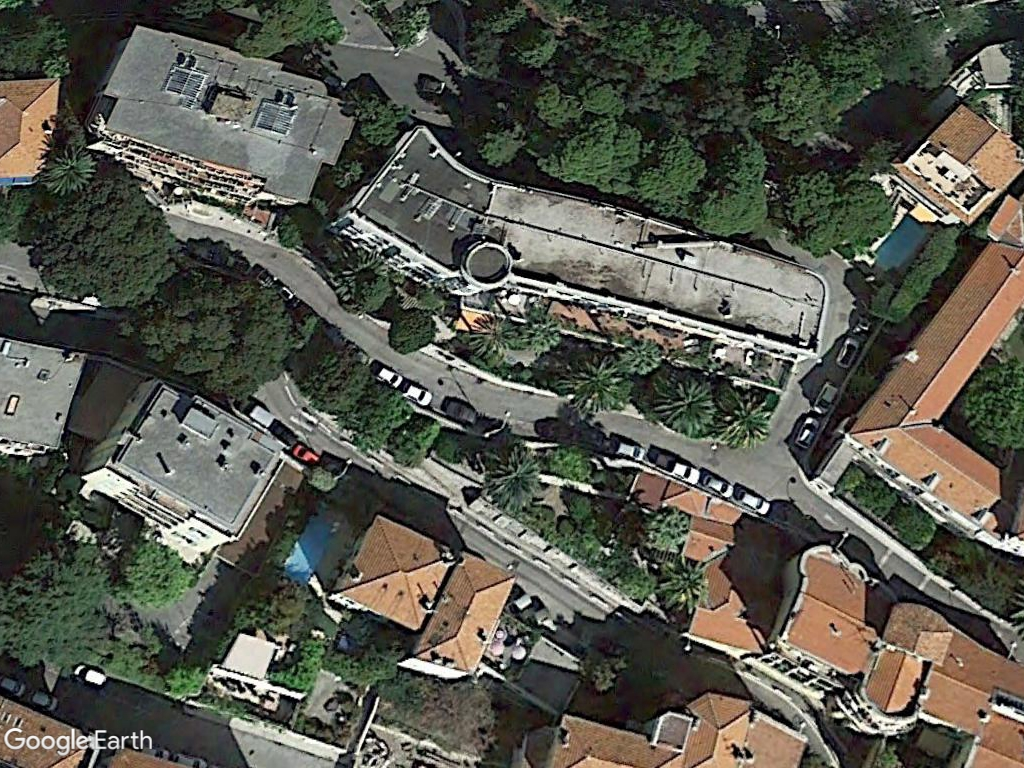car: (735, 481, 774, 516), (443, 396, 481, 425), (614, 435, 649, 462)
